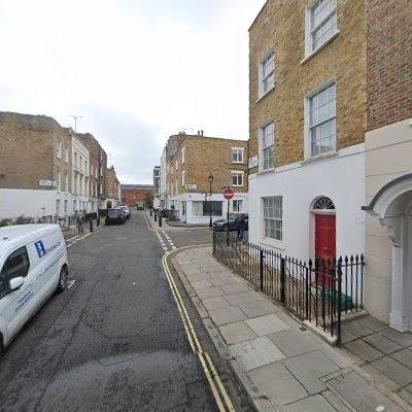moving-car: (137, 201, 145, 209)
stationary-car-onstreet: (211, 211, 248, 230), (104, 206, 124, 226), (118, 205, 130, 219)
stationary-light-truck-onstreet: (0, 223, 70, 357)
